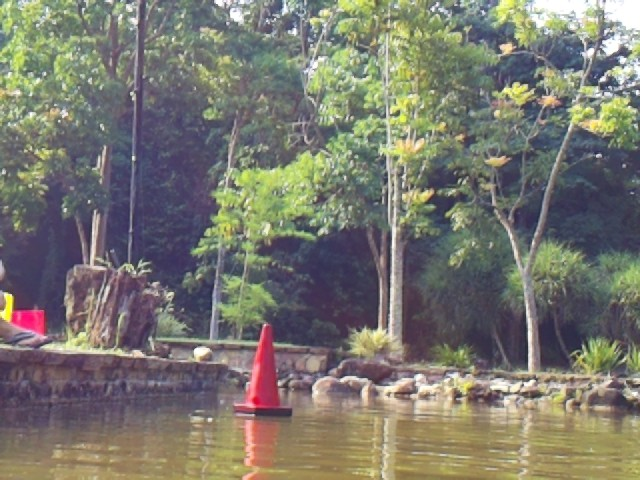obstacle: (232, 323, 292, 417)
